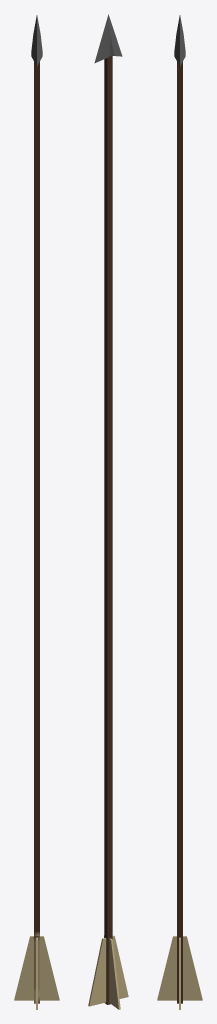
The model's file is Arrow.fbx.
The picture shows the model from 3 angles, left to right: view 1: azimuth 90°, elevation 25°; view 2: azimuth 210°, elevation 25°; view 3: azimuth 270°, elevation 25°; orthographic projection.
Visible parts, largest first — view 1: Arrow_Baked; view 2: Arrow_Baked; view 3: Arrow_Baked.
Boxes of the visible parts, x1,y1,x2,y2 form: Arrow_Baked: (14, 15, 59, 1009); Arrow_Baked: (88, 14, 128, 1009); Arrow_Baked: (157, 15, 202, 1009).
Bounding box in the file's own units: 3.06 × 73 × 3.06.
Materials: 1 (1 with a texture image).
